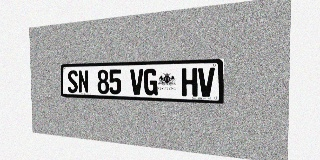5: (109, 69, 121, 94)
8: (97, 70, 109, 94)
G: (144, 69, 158, 95)
H: (182, 68, 197, 97)
N: (78, 70, 89, 93)
S: (67, 70, 78, 93)
V: (198, 68, 215, 97), (130, 69, 143, 95)
